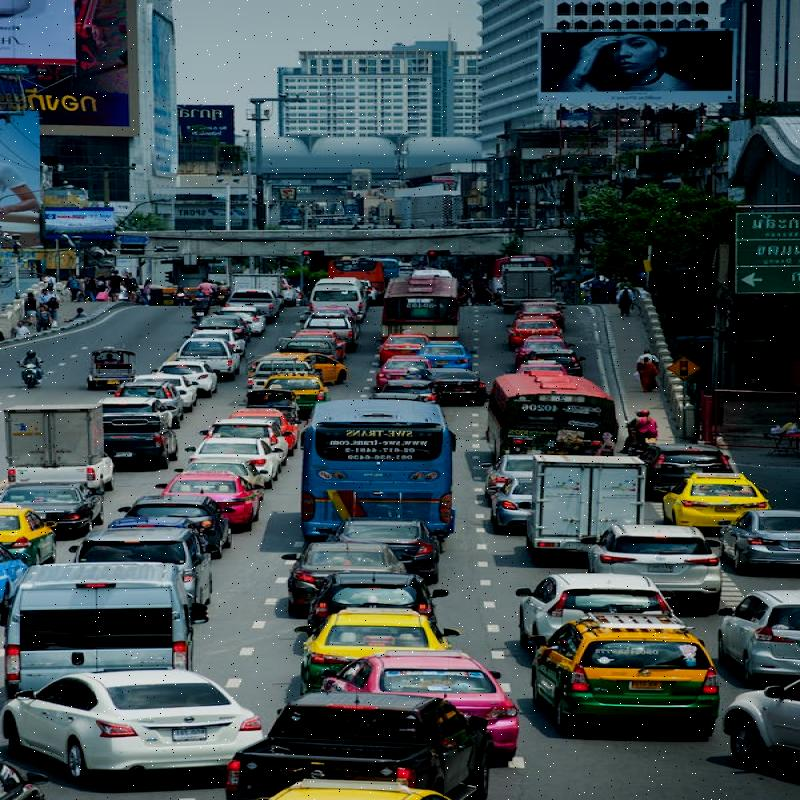car: (0, 663, 256, 777), (535, 611, 711, 736), (328, 657, 527, 743), (266, 526, 408, 618), (503, 562, 658, 640), (66, 527, 210, 610), (300, 612, 432, 701), (603, 527, 730, 603), (315, 570, 442, 638), (117, 492, 221, 556), (59, 414, 173, 459), (187, 435, 274, 490), (164, 470, 247, 520), (102, 385, 186, 424)
